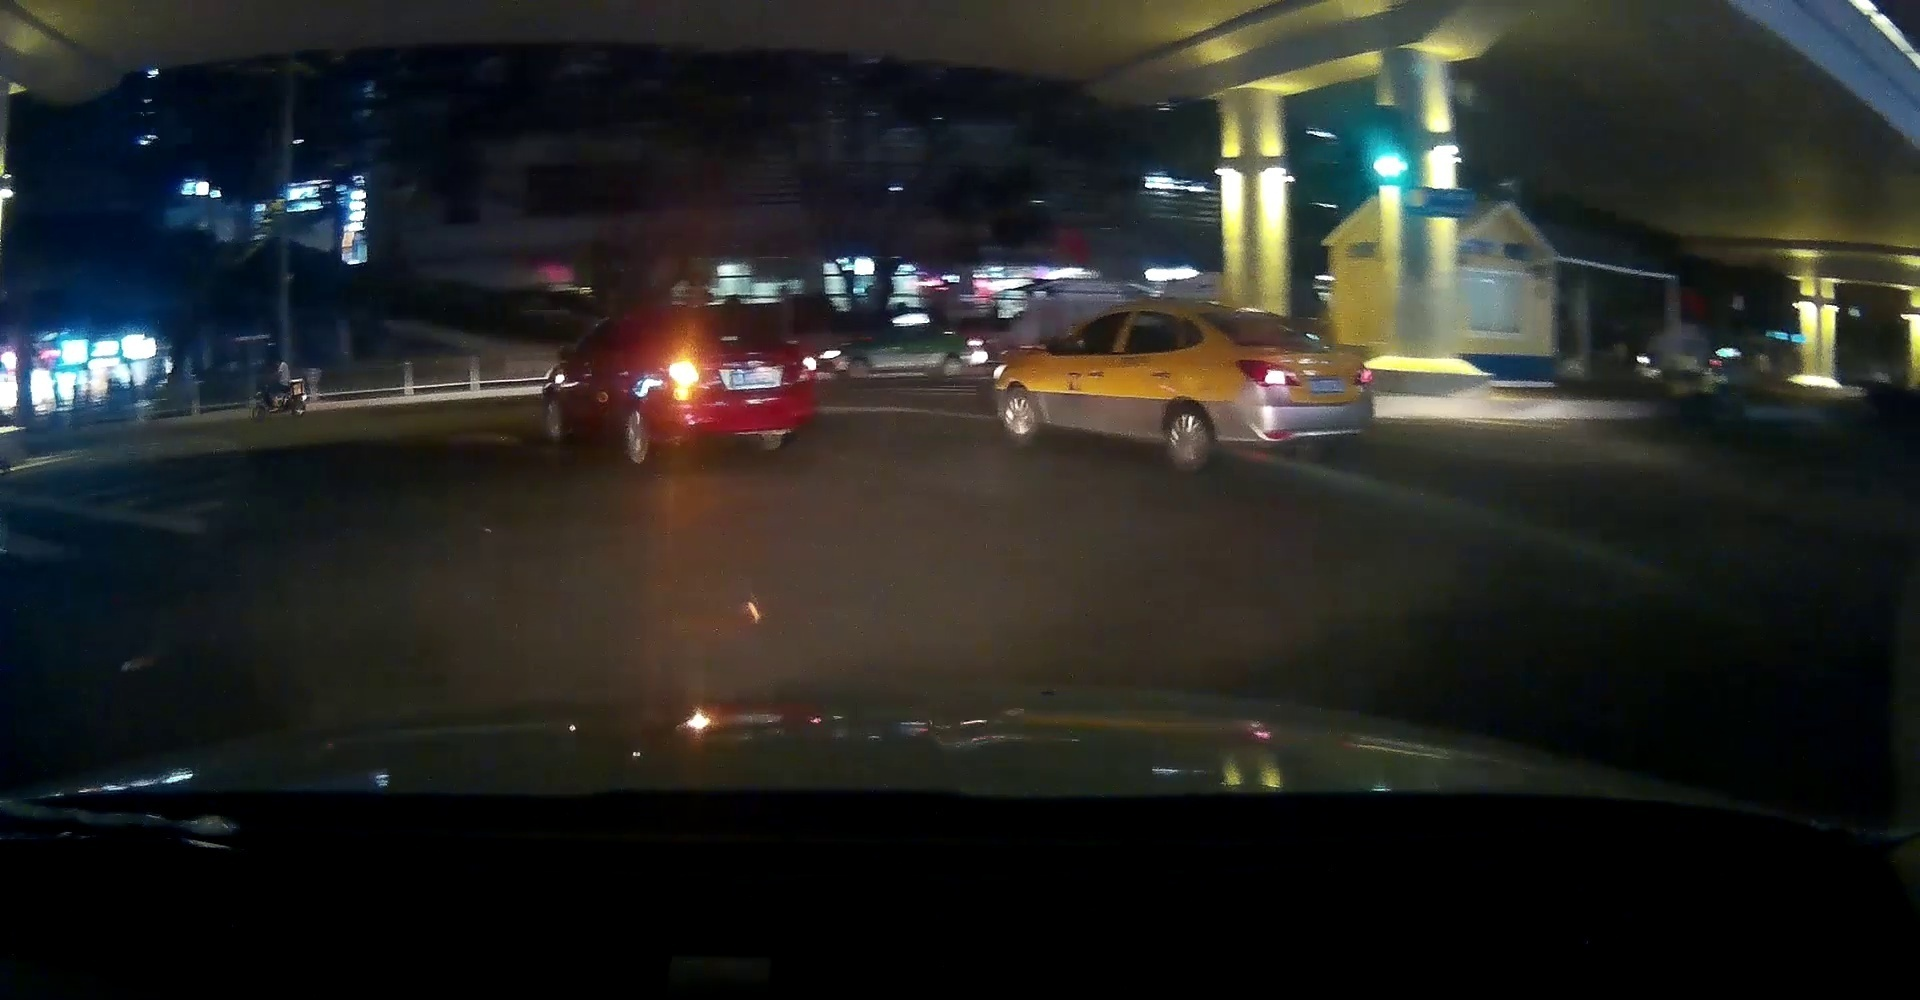L_light: (1234, 359, 1303, 387), (668, 360, 698, 385)
R_light: (796, 357, 817, 383), (1352, 362, 1373, 386)
T_light: (719, 336, 738, 341), (1281, 343, 1304, 346)
night-left: (662, 305, 818, 466)
night-no: (1196, 299, 1377, 475)
